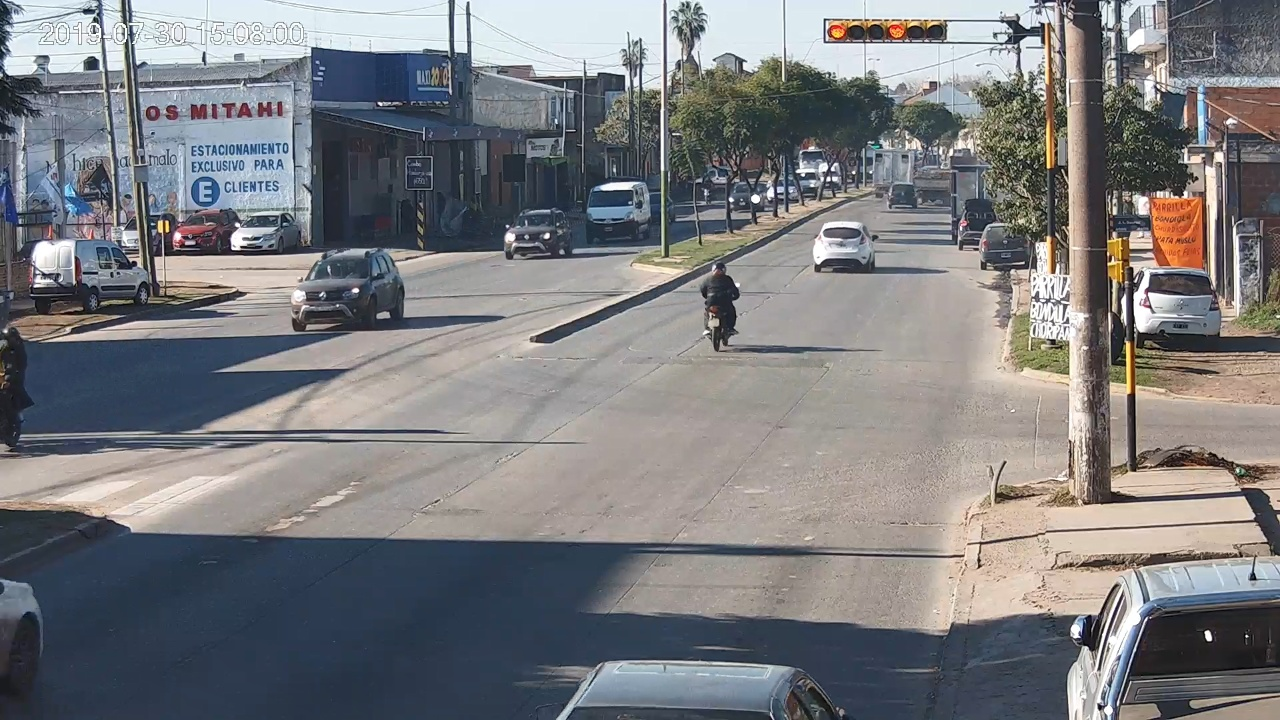car: (551, 662, 847, 720), (813, 221, 879, 272)
front car: (291, 248, 405, 330), (504, 208, 572, 260)
motorcycle: (699, 278, 740, 351)
traffic light: (823, 17, 949, 44)
